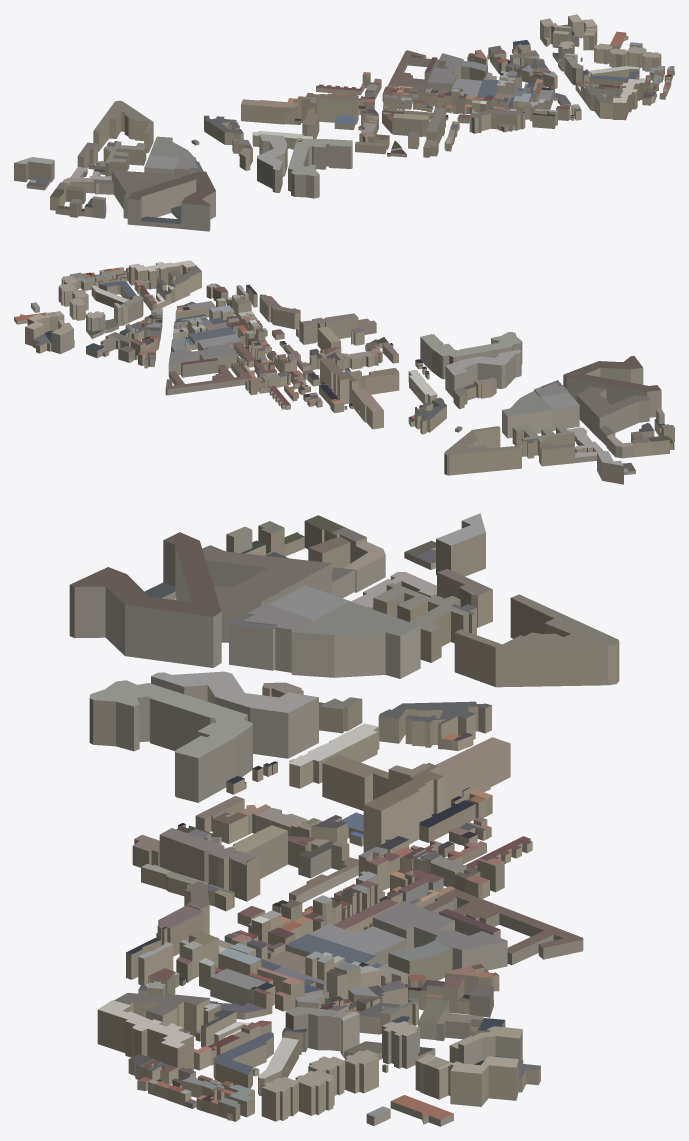
3 renders of one model, top to bottom at view 1: azimuth 30°, elevation 25°; view 2: azimuth 150°, elevation 25°; view 3: azimuth 270°, elevation 25°, orthographic. The views are drawn at different scales.
Parts seen in each view (by area): view 1: tuile; view 2: tuile; view 3: tuile.
Part boxes in pixels (x1,y1,x2,y2): tuile: (14, 14, 674, 231); tuile: (14, 260, 674, 484); tuile: (69, 513, 619, 1126).
Size of the model in its own units: 1014 by 43.82 by 398.
